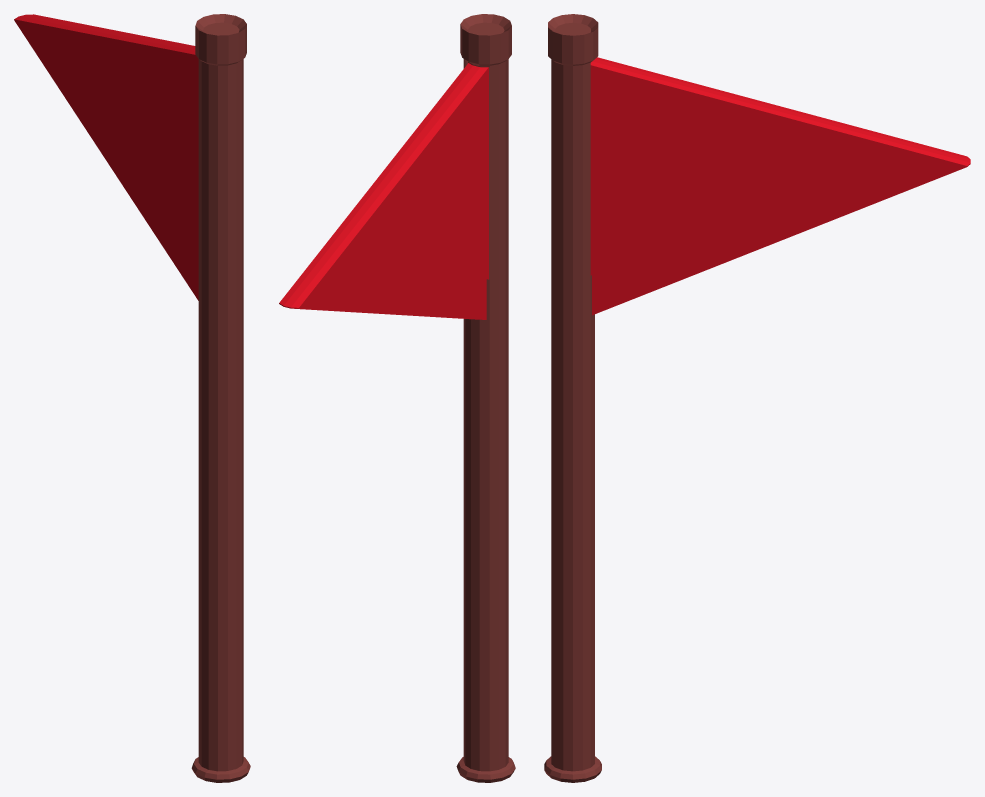
The model's file is flag.fbx.
3 views of the same model, side by side, from view 1: azimuth 30°, elevation 25°; view 2: azimuth 150°, elevation 25°; view 3: azimuth 270°, elevation 25° (orthographic).
Parts seen in each view (by area): view 1: Torus.001; view 2: Torus.001; view 3: Torus.001.
Part boxes in pixels (bbox=[...]): Torus.001: bbox=[14, 14, 250, 782]; Torus.001: bbox=[279, 14, 515, 782]; Torus.001: bbox=[544, 14, 970, 782].
Size of the model in its own units: 250 by 3471 by 1795.
